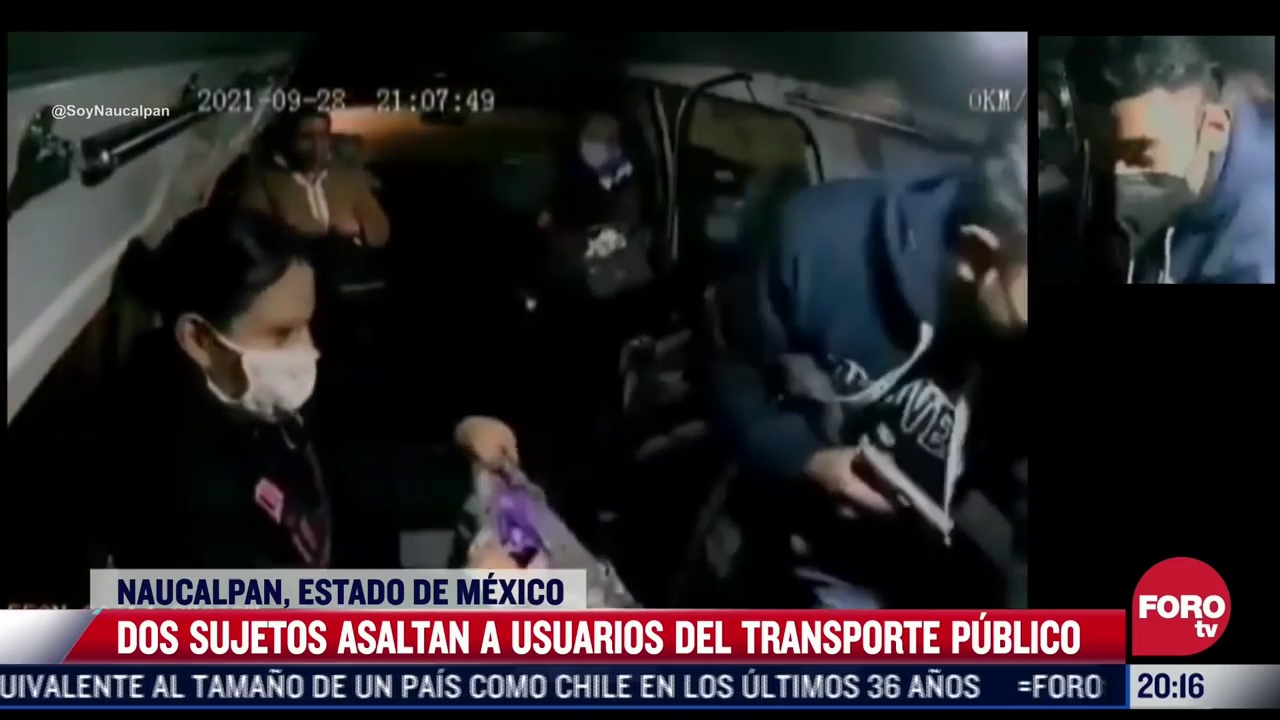pistol: (848, 440, 958, 548)
